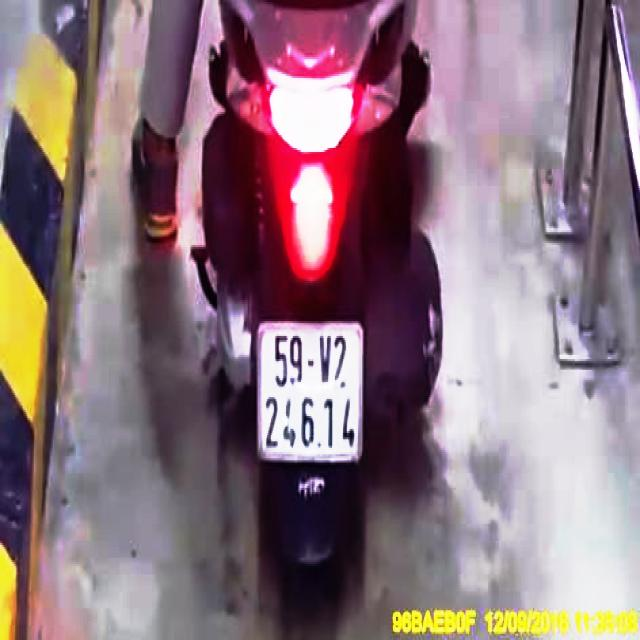license_plate: (256, 321, 367, 461)
